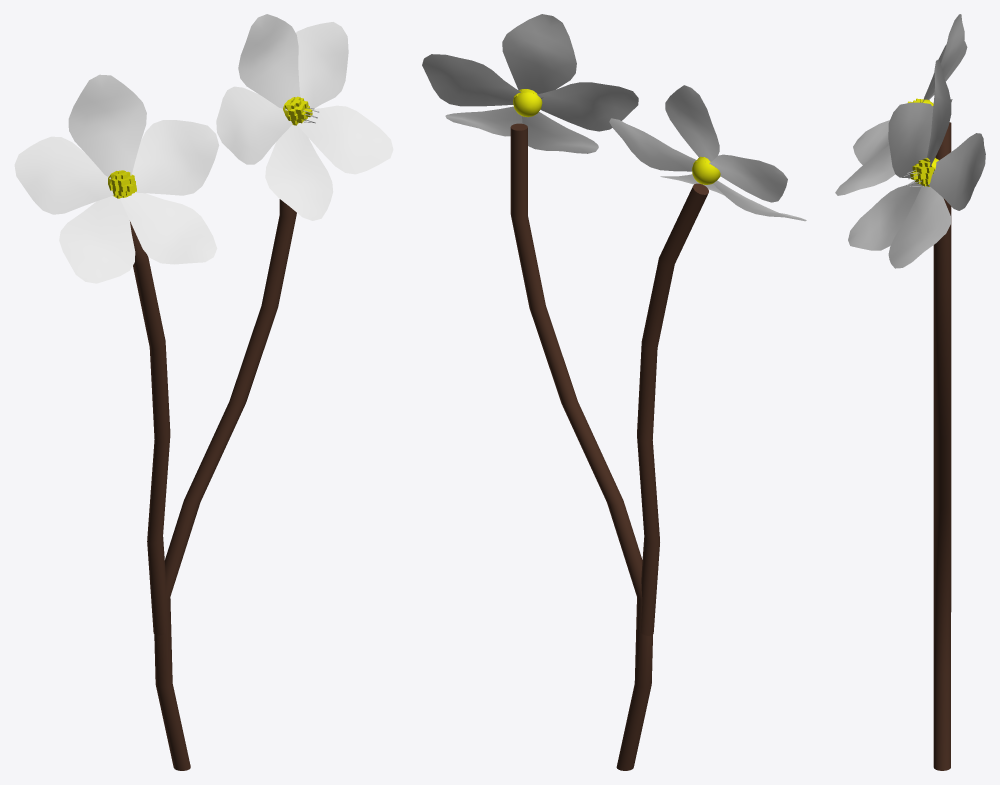
Rendered from Nirinsou.fbx.
The picture shows the model from 3 angles, left to right: view 1: azimuth 30°, elevation 25°; view 2: azimuth 150°, elevation 25°; view 3: azimuth 270°, elevation 25°; orthographic projection.
Visible parts, largest first — view 1: pCylinder12, pPlane13 (×2), pPlane14 (×2), pPlane12 (×2), pPlane11 (×2), pPlane10, Dendorobium:pPlane10, pSphere5; view 2: pCylinder12, pPlane13 (×2), pPlane14 (×2), pPlane12 (×2), Dendorobium:pPlane10, pPlane11, pPlane10, Dendorobium:pSphere5; view 3: pCylinder12, pPlane11 (×2), pPlane14 (×2), pPlane12, Dendorobium:pPlane10, pPlane13 (×2), pPlane10, Dendorobium:pSphere5.
Part boxes in pixels (x1,y1,x2,y2): pCylinder12: (130, 199, 296, 770); pPlane13 (×2): (68, 14, 300, 178); pPlane14 (×2): (14, 86, 292, 214); pPlane12 (×2): (132, 22, 348, 195); pPlane11 (×2): (120, 105, 393, 264); pPlane10: (59, 196, 135, 283); Dendorobium:pPlane10: (265, 125, 333, 220); pSphere5: (108, 170, 136, 198); pCylinder12: (510, 123, 708, 770); pPlane13 (×2): (502, 14, 719, 167); pPlane14 (×2): (537, 82, 787, 202); pPlane12 (×2): (422, 54, 696, 171); Dendorobium:pPlane10: (522, 112, 598, 153); pPlane11: (445, 106, 522, 136); pPlane10: (713, 180, 806, 221); Dendorobium:pSphere5: (513, 89, 542, 117); pCylinder12: (933, 122, 951, 770); pPlane11 (×2): (835, 145, 950, 268); pPlane14 (×2): (888, 41, 967, 178); pPlane12: (928, 133, 985, 210); Dendorobium:pPlane10: (848, 182, 921, 250); pPlane13 (×2): (922, 14, 964, 166); pPlane10: (853, 120, 889, 164); Dendorobium:pSphere5: (910, 157, 938, 186).
Bounding box in the file's own units: 204 × 398 × 73.05.
